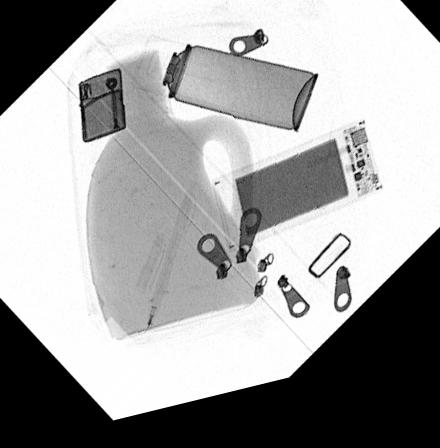Lighter: (76, 72, 126, 146)
Powerbank: (210, 135, 384, 263)
Sprayer: (128, 41, 319, 146)
